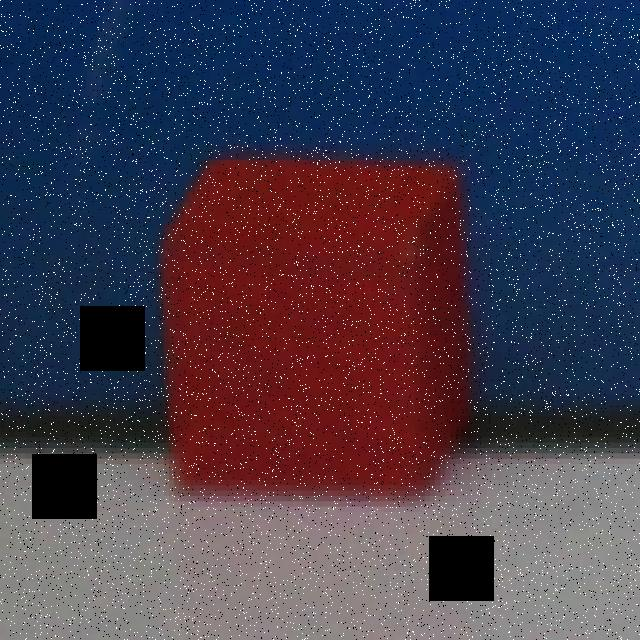red cube: (160, 153, 472, 496)
